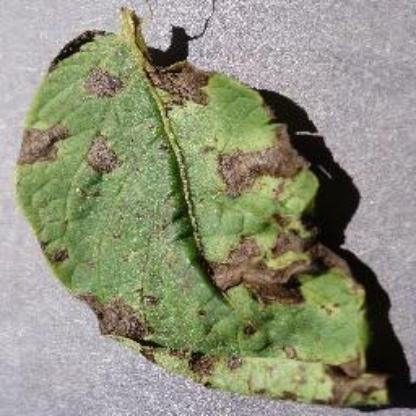Early-Blight: (16, 6, 398, 408)
